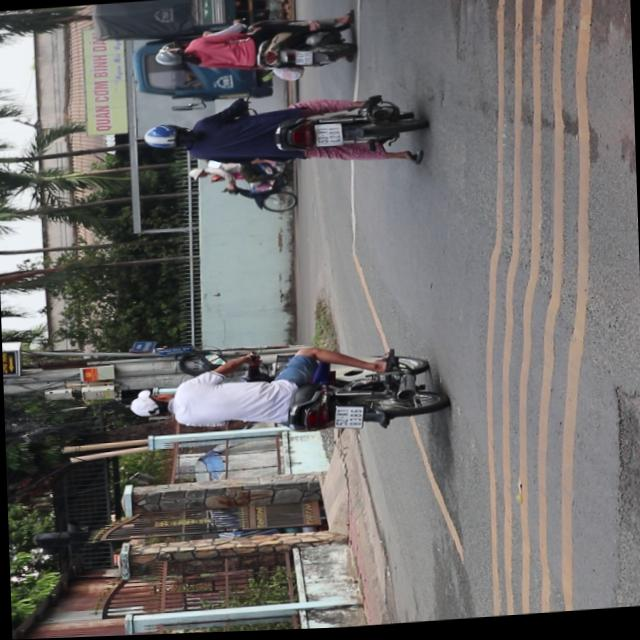helmet: (140, 124, 190, 154), (150, 49, 187, 70)
licenseplate: (123, 342, 446, 452), (139, 90, 425, 184), (150, 15, 356, 86)
motorcyclist: (127, 389, 173, 421)
nohelmet: (332, 408, 363, 432), (312, 126, 340, 149), (294, 53, 310, 68)
